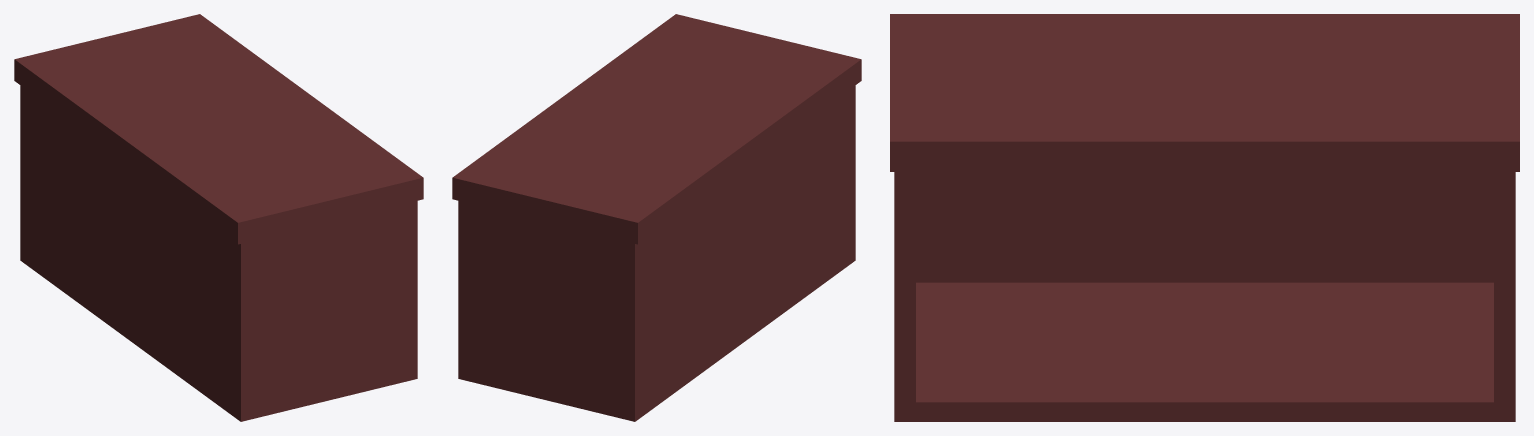
File: Shelf small Half.fbx
3 views of the same model, side by side, from view 1: azimuth 30°, elevation 25°; view 2: azimuth 150°, elevation 25°; view 3: azimuth 270°, elevation 25° (orthographic). The views are drawn at different scales.
Parts seen in each view (by area): view 1: Cube_2, Cube; view 2: Cube_2, Cube; view 3: Cube_2, Cube.
Part boxes in pixels (left/top/right/bottom): Cube_2: left=20, top=85, right=417, bottom=421; Cube: left=14, top=14, right=423, bottom=244; Cube_2: left=458, top=85, right=855, bottom=421; Cube: left=452, top=14, right=861, bottom=244; Cube_2: left=894, top=172, right=1515, bottom=421; Cube: left=890, top=14, right=1519, bottom=171.
Bounding box in the file's own units: 112 × 116 × 234.
